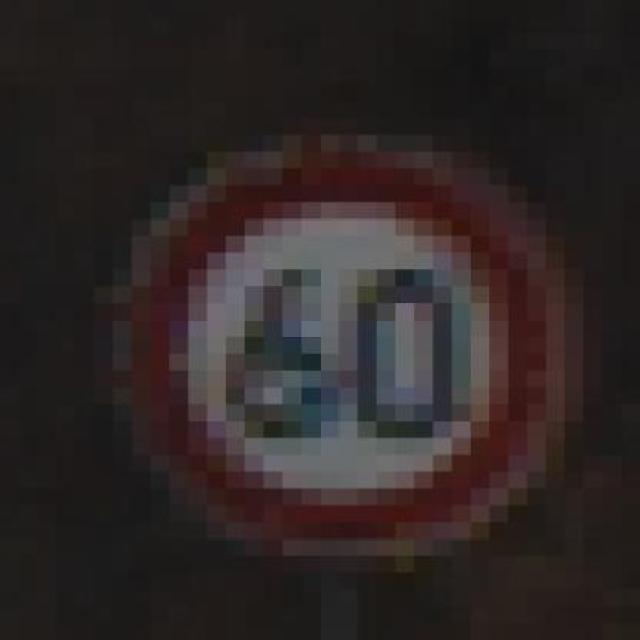forb_speed_over_60: (143, 154, 534, 531)
